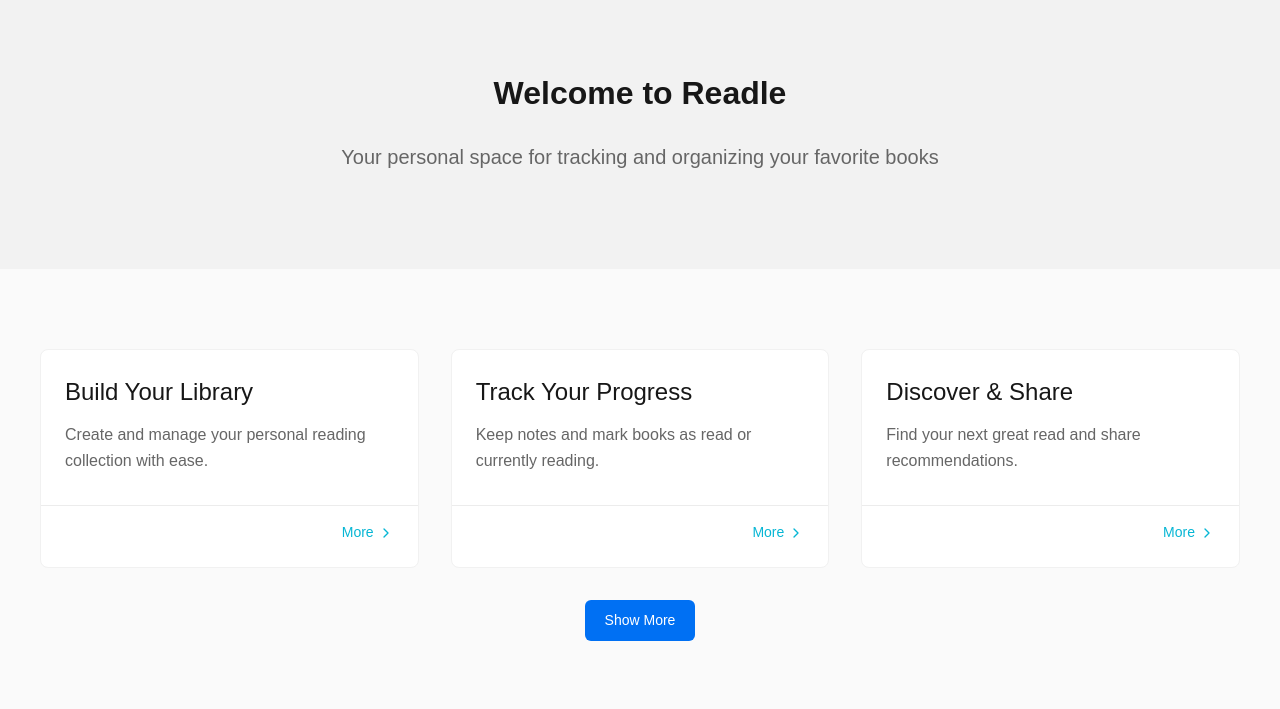
Scenario: HomaPage › homepage can toggle "Show More" and "Show Less" button
// Klik pertama: tombol berubah jadi "Show Less"
Click the button "Show More": coordinates (640, 621) [585, 600, 695, 641]
(page scrolled)
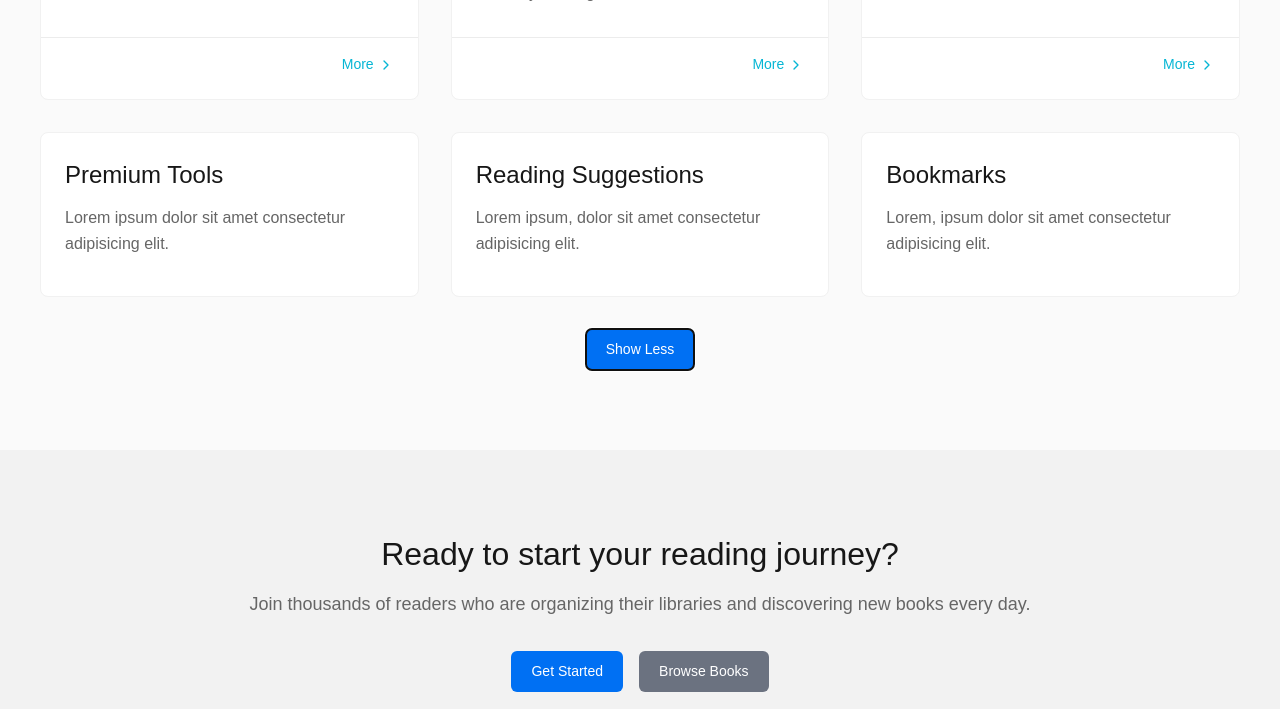
Expected: the button named "show more" reads "Show Less"
// Klik kedua: tombol kembali jadi "Show More"
Click the button named "show more": coordinates (640, 350) [586, 329, 694, 370]
(page scrolled)
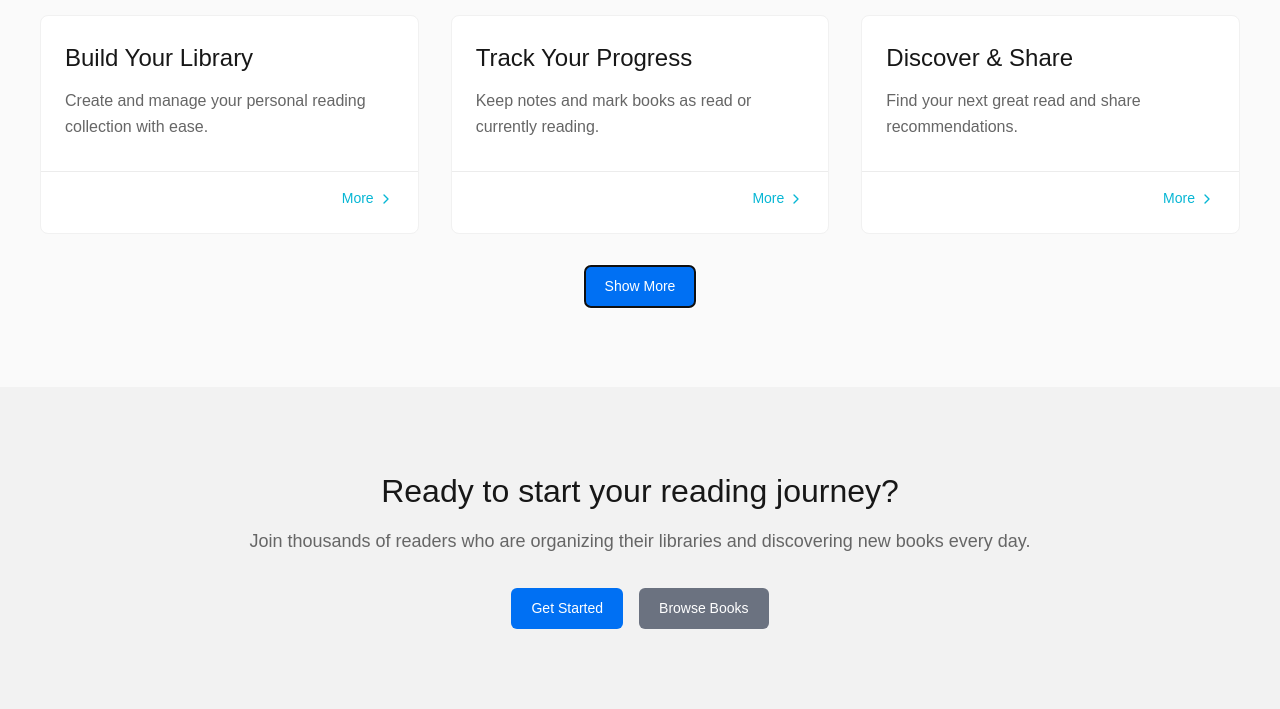
Expected: the button "Show More" is shown, [585, 266, 695, 307]
